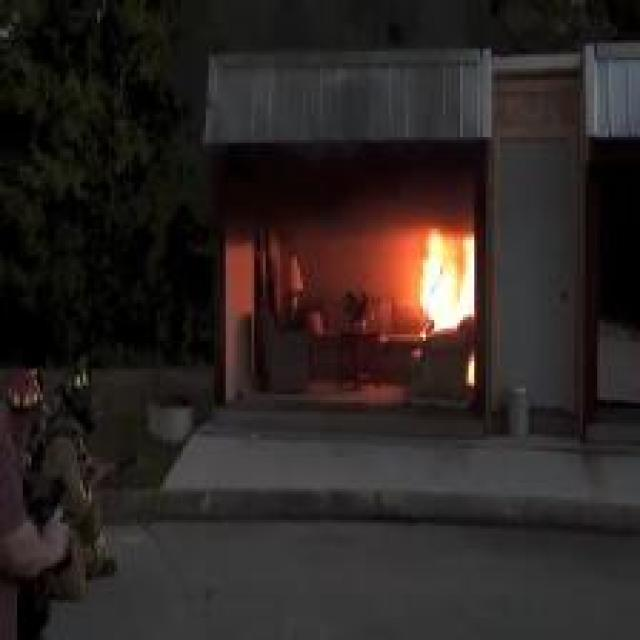Fire: (421, 230, 473, 333)
